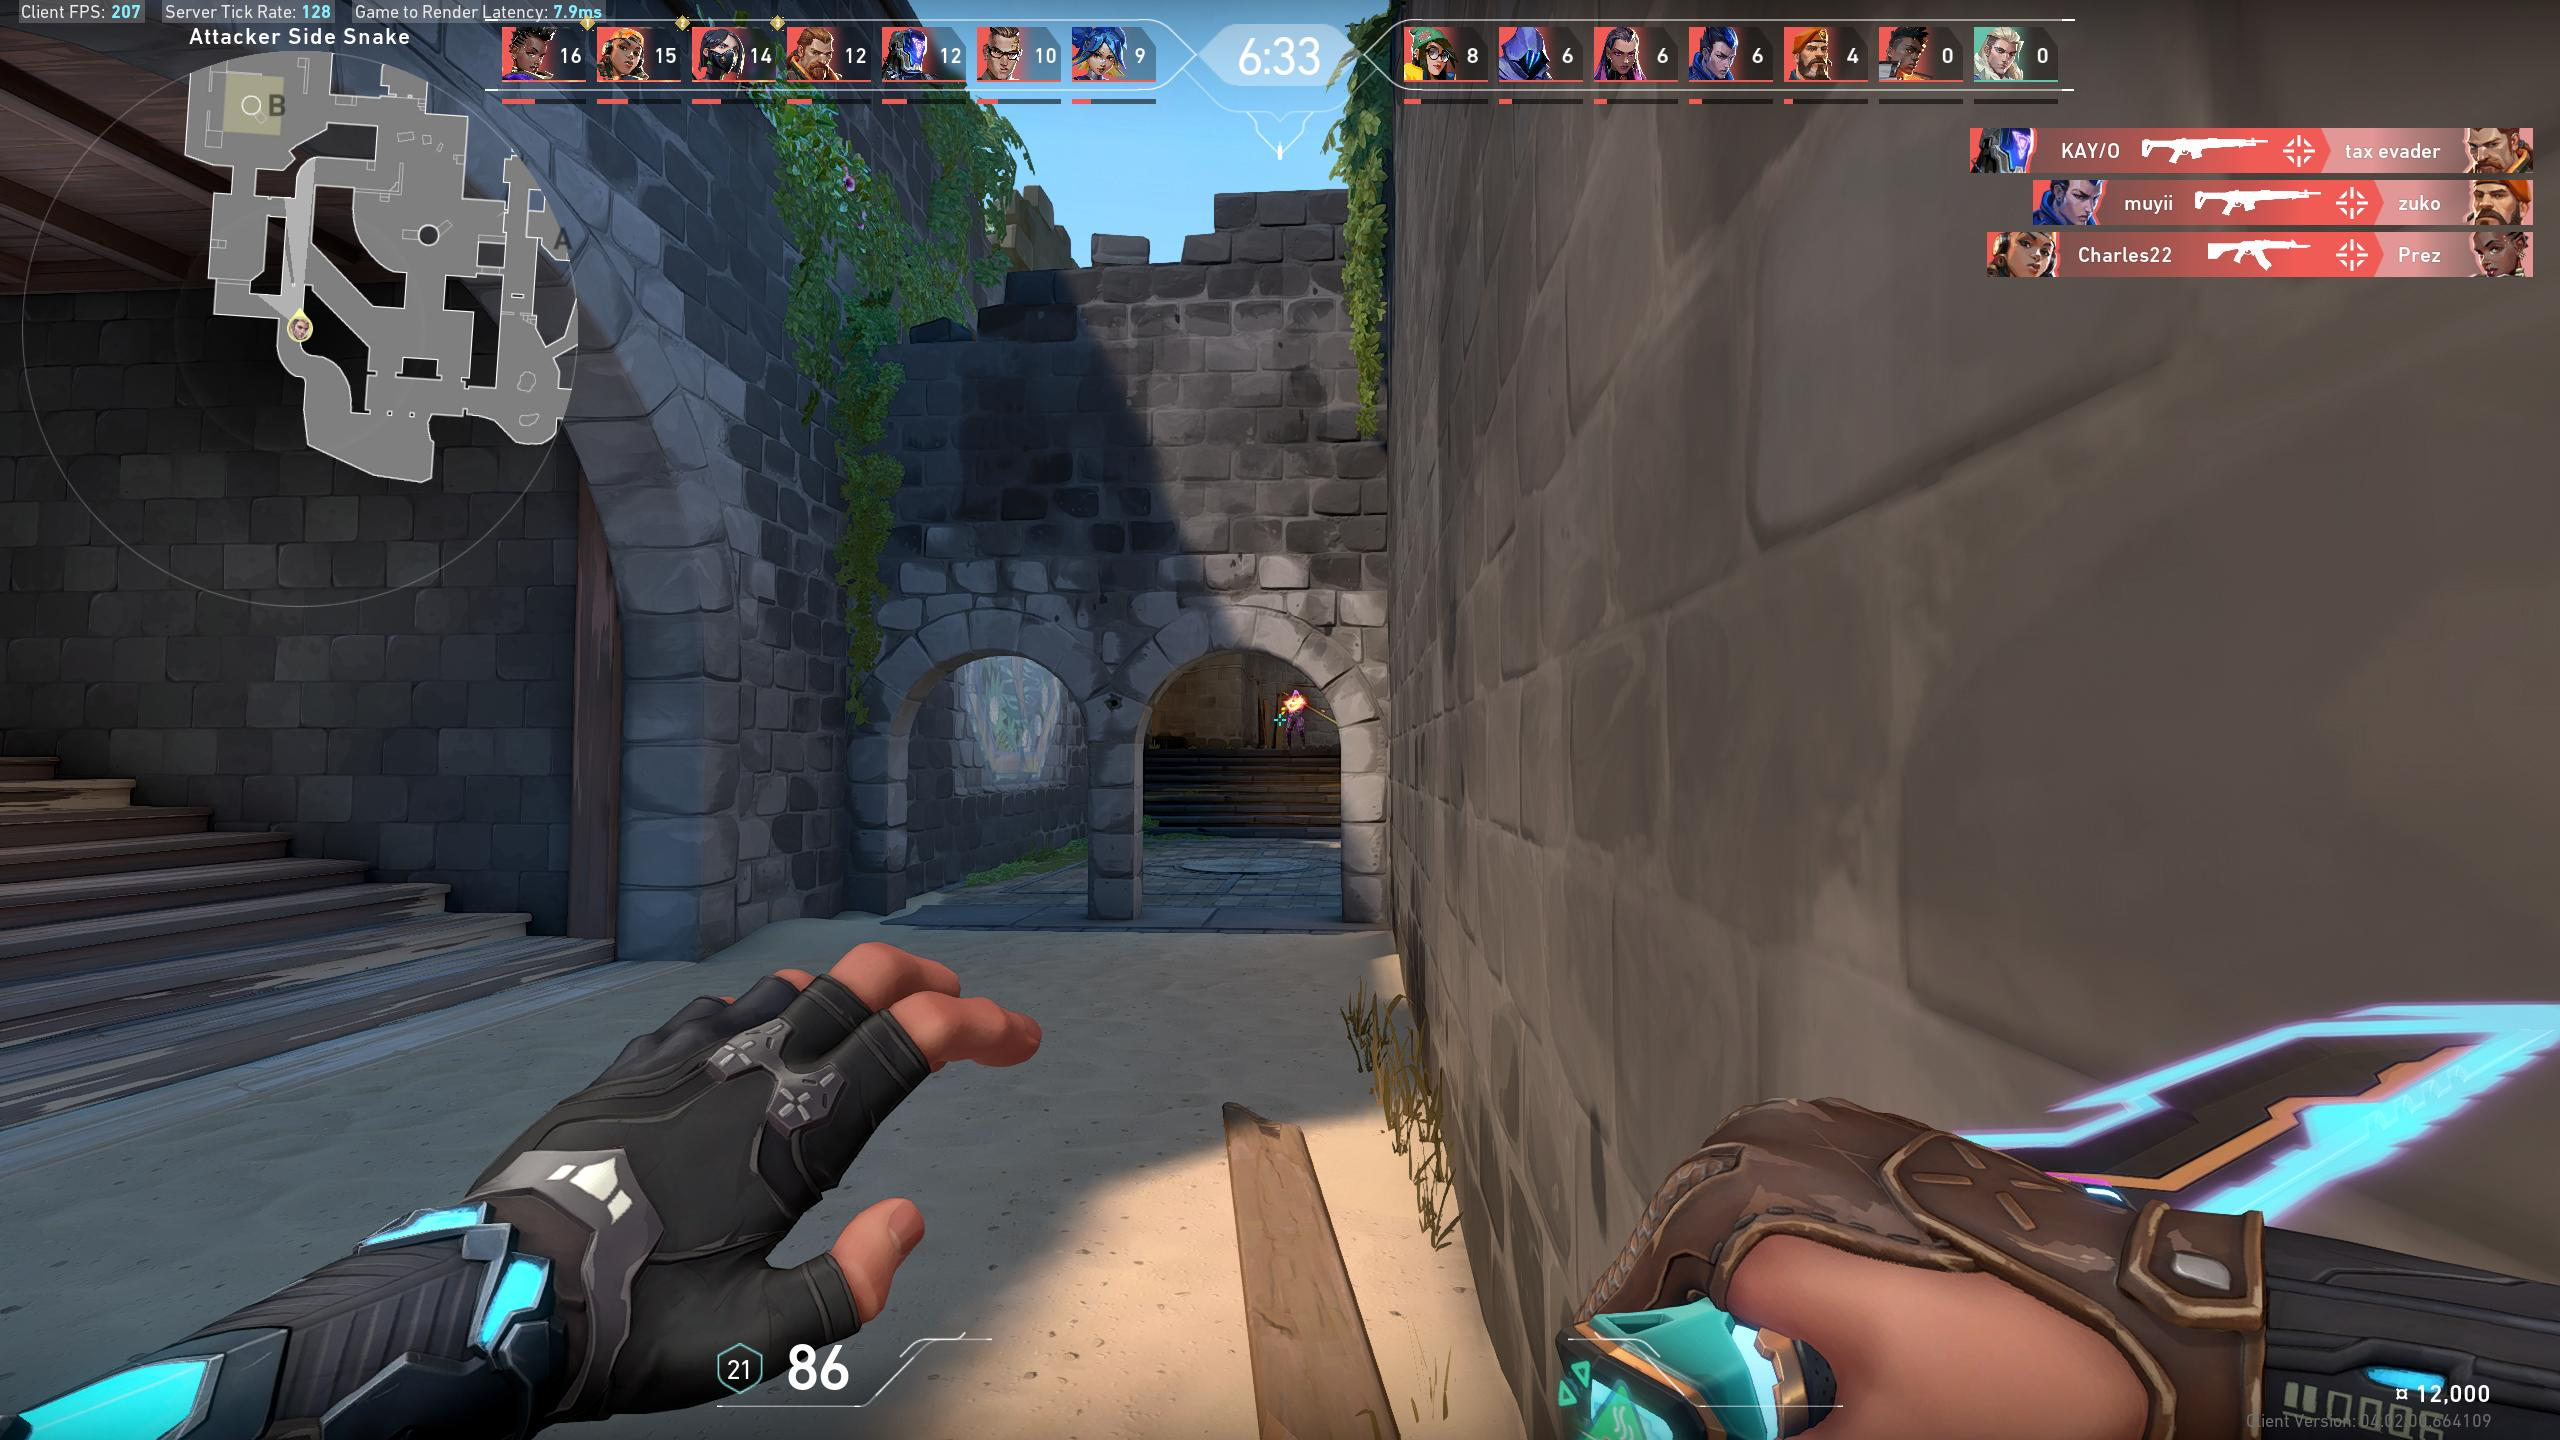enemyBody: (1291, 700, 1299, 712)
enemyHead: (1294, 693, 1298, 698)
